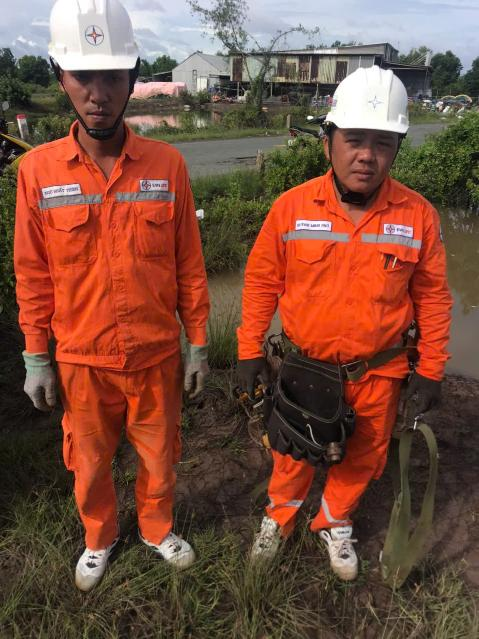gloves: (170, 336, 217, 400), (229, 349, 277, 402), (23, 355, 66, 410), (394, 376, 443, 416)
harness: (242, 333, 433, 387)
helmet: (33, 0, 158, 85), (318, 53, 420, 140)
shoes: (311, 516, 364, 587), (68, 523, 120, 593), (242, 507, 286, 565), (147, 522, 195, 570)
